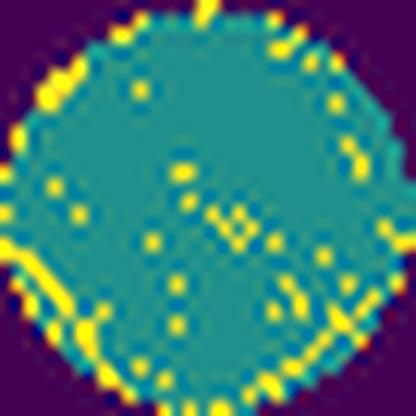Scratch: (239, 286, 385, 406), (2, 237, 80, 321)
